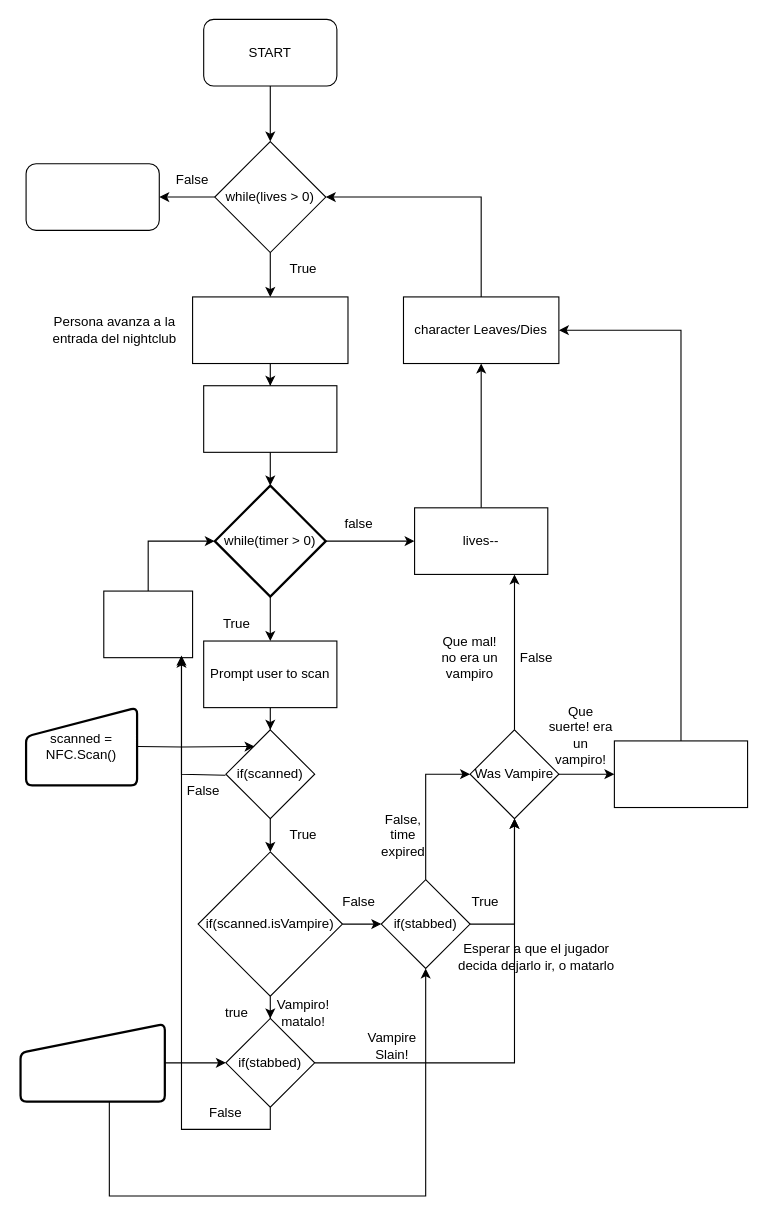
This 767x1224 diagram has some shape labels left out. Each missing label, with the centre of its shape:
"Begin Timer" belongs at point 270,418.
"characterList.Dequeue()" belongs at point 269,330.
"END" belongs at point 92,196.
"Score++" belongs at point 680,774.
"stabbed = Piezoelectric.Sense()" belongs at point 92,1062.
"timer--" belongs at point 148,624.
